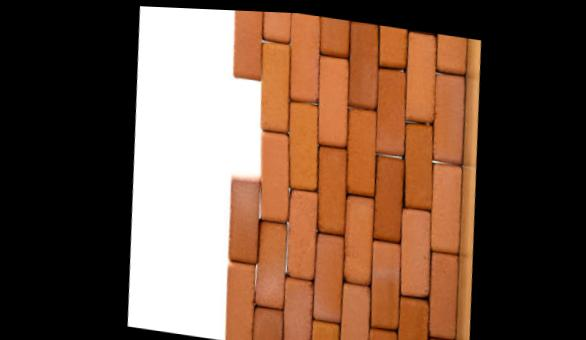brick: (305, 231, 351, 326), (220, 173, 268, 263), (399, 30, 444, 126), (426, 70, 472, 163), (423, 161, 468, 253), (312, 54, 356, 148), (281, 100, 326, 190), (281, 186, 324, 279), (371, 66, 415, 156), (253, 131, 296, 223), (340, 106, 384, 195), (311, 145, 354, 236), (338, 193, 380, 286), (369, 153, 412, 243), (254, 40, 296, 132), (283, 13, 326, 102), (364, 239, 406, 330), (342, 21, 384, 111), (394, 208, 436, 298), (397, 119, 439, 209), (251, 221, 293, 309), (422, 251, 464, 339), (220, 261, 262, 340), (227, 10, 269, 79), (278, 275, 319, 340), (335, 282, 375, 340), (392, 295, 433, 340), (435, 33, 471, 77), (316, 16, 354, 57), (375, 25, 410, 67), (249, 305, 283, 340), (262, 12, 293, 41), (307, 318, 343, 340), (367, 326, 401, 340), (421, 337, 458, 340)
